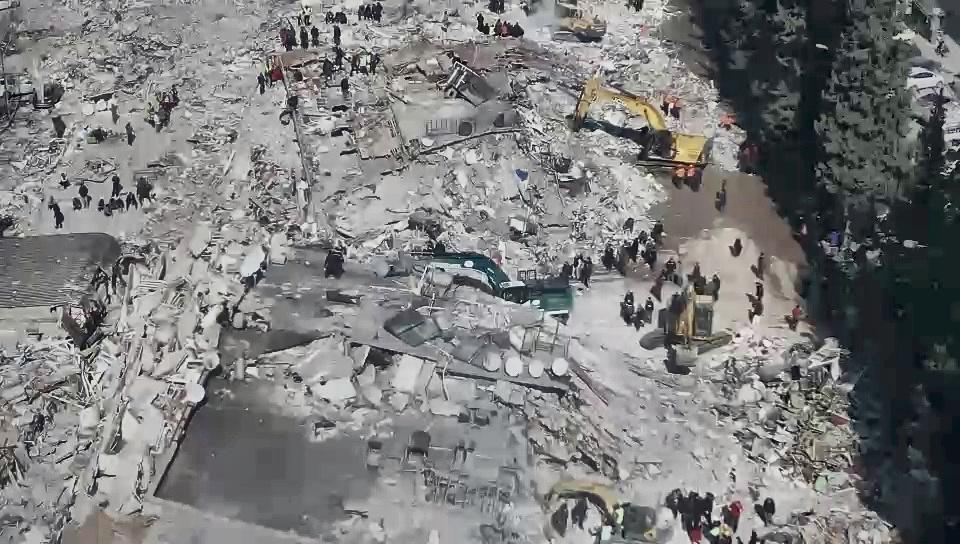kapali: (624, 245, 943, 543), (541, 0, 798, 246)
